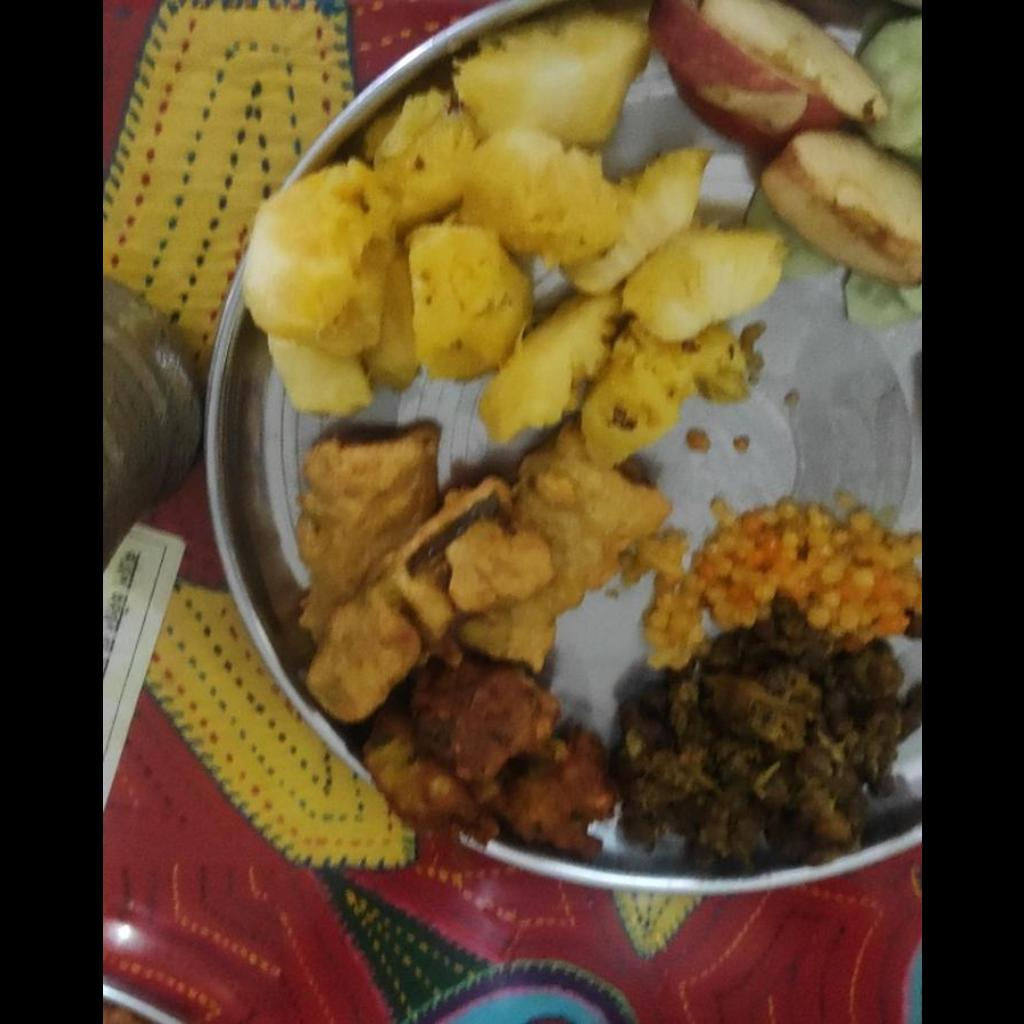apple: (654, 1, 920, 287)
beguni: (288, 422, 675, 716)
burinda: (628, 501, 920, 667)
chola: (626, 623, 920, 856)
peyaju: (360, 665, 615, 852)
pineapple: (243, 15, 782, 472)
